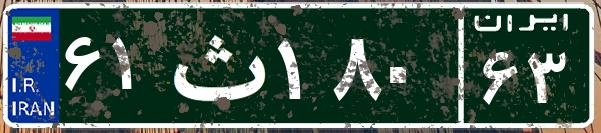0: (385, 28, 445, 110)
1: (273, 28, 330, 110), (110, 28, 158, 105)
3: (525, 38, 570, 115)
6: (57, 26, 110, 107), (475, 38, 525, 113)
8: (330, 28, 385, 110)
ث: (158, 15, 273, 115)
